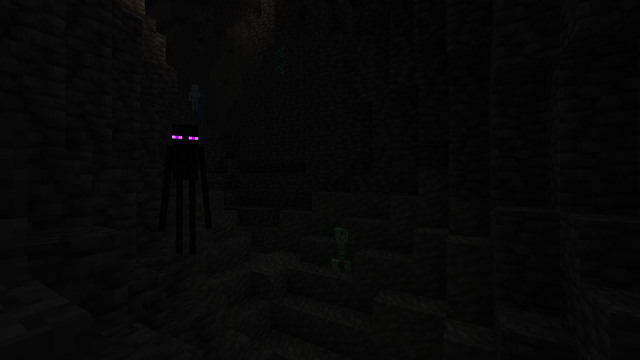creepers: (330, 225, 346, 272)
endermens: (164, 118, 205, 256)
squelettes: (188, 83, 199, 111)
